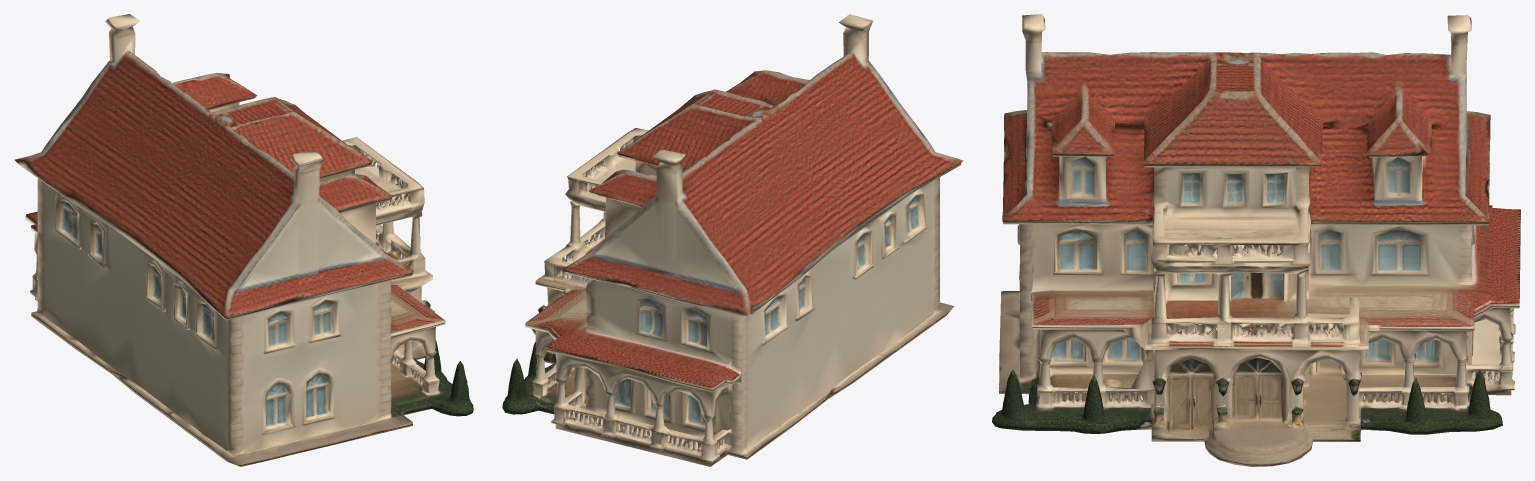
Rendered from manor.glb.
3 views of the same model, side by side, from view 1: azimuth 30°, elevation 25°; view 2: azimuth 150°, elevation 25°; view 3: azimuth 270°, elevation 25° (orthographic). The views are drawn at different scales.
Visible parts, largest first — view 1: tripo_node_cd23f2d3-ebd7-4d11-89af-4bc0d1417283; view 2: tripo_node_cd23f2d3-ebd7-4d11-89af-4bc0d1417283; view 3: tripo_node_cd23f2d3-ebd7-4d11-89af-4bc0d1417283.
Boxes of the visible parts, box(x1,y1,x2,y2) form: tripo_node_cd23f2d3-ebd7-4d11-89af-4bc0d1417283: box(14, 14, 473, 466); tripo_node_cd23f2d3-ebd7-4d11-89af-4bc0d1417283: box(502, 14, 963, 466); tripo_node_cd23f2d3-ebd7-4d11-89af-4bc0d1417283: box(992, 14, 1520, 466).
Bounding box in the file's own units: 11.75 × 10 × 14.8.
Materials: 1 (1 with a texture image).
